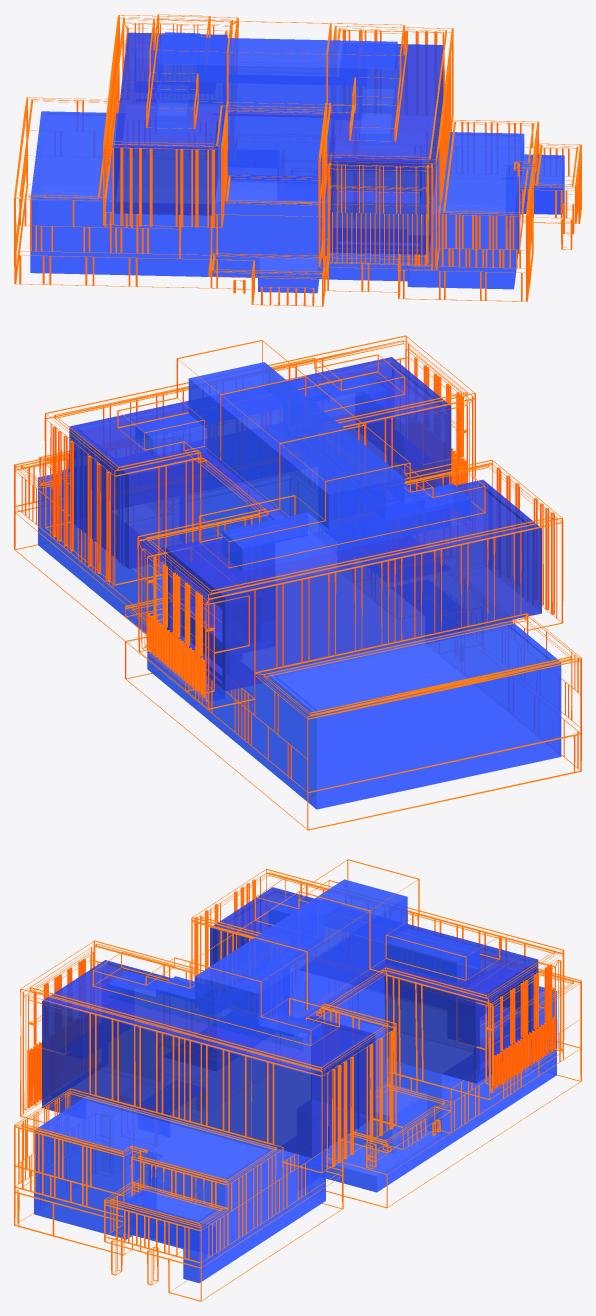
3 views of the same model, one above another, from view 1: azimuth 30°, elevation 25°; view 2: azimuth 150°, elevation 25°; view 3: azimuth 270°, elevation 25° (orthographic). The views are drawn at different scales.
Visible parts, largest first — view 1: MN, MN_Wireframe; view 2: MN, MN_Wireframe; view 3: MN, MN_Wireframe.
Boxes of the visible parts, bbox=[...] form: MN: bbox=[30, 32, 564, 293]; MN_Wireframe: bbox=[14, 14, 581, 306]; MN: bbox=[38, 357, 561, 809]; MN_Wireframe: bbox=[14, 335, 581, 830]; MN: bbox=[34, 879, 556, 1283]; MN_Wireframe: bbox=[14, 859, 581, 1301].
Bounding box in the file's own units: 108 × 41.84 × 91.82.
